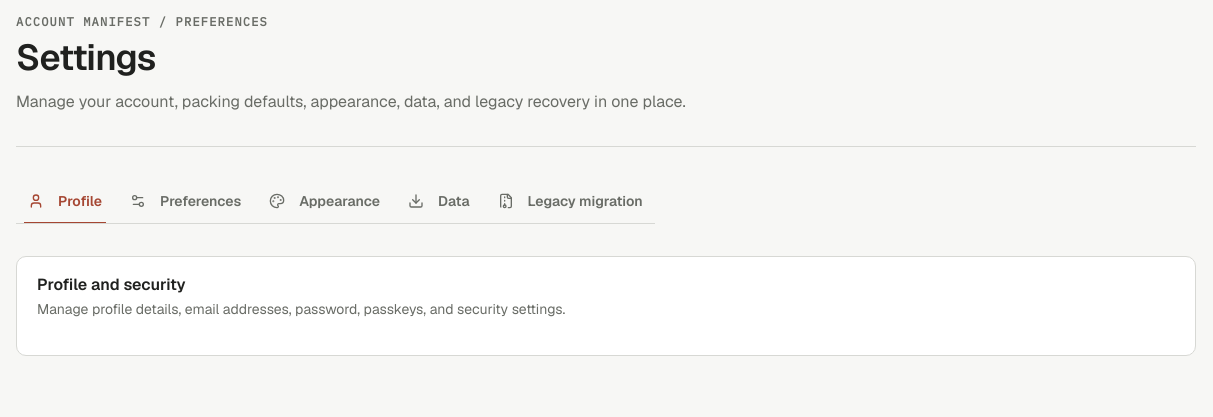
SettingsPage › disables account export until owner-scoped data resolves
Click the tab "Data": click(439, 201) left=396, top=179, right=482, bottom=223
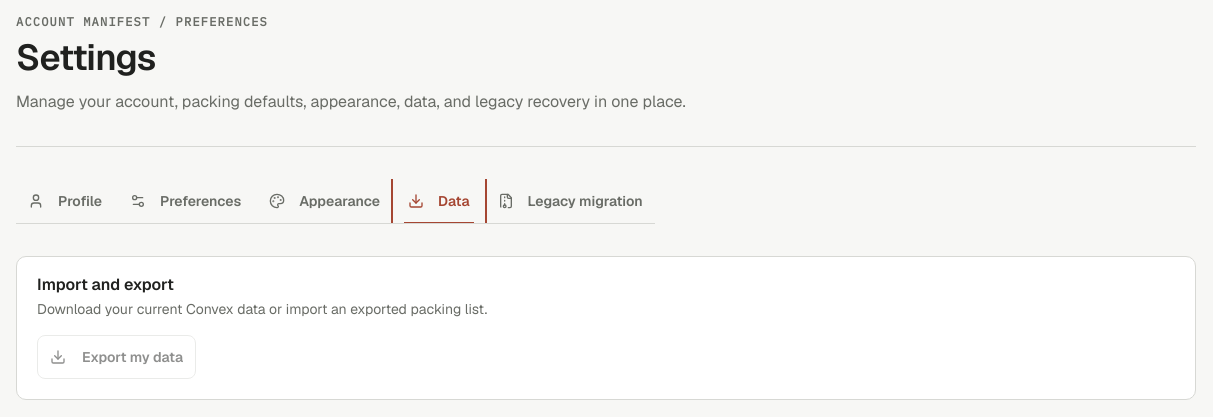
Check: the button "Export my data" is disabled, box left=37, top=335, right=196, bottom=379
